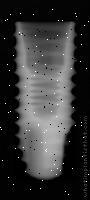Hiossen: (14, 21, 76, 181)
